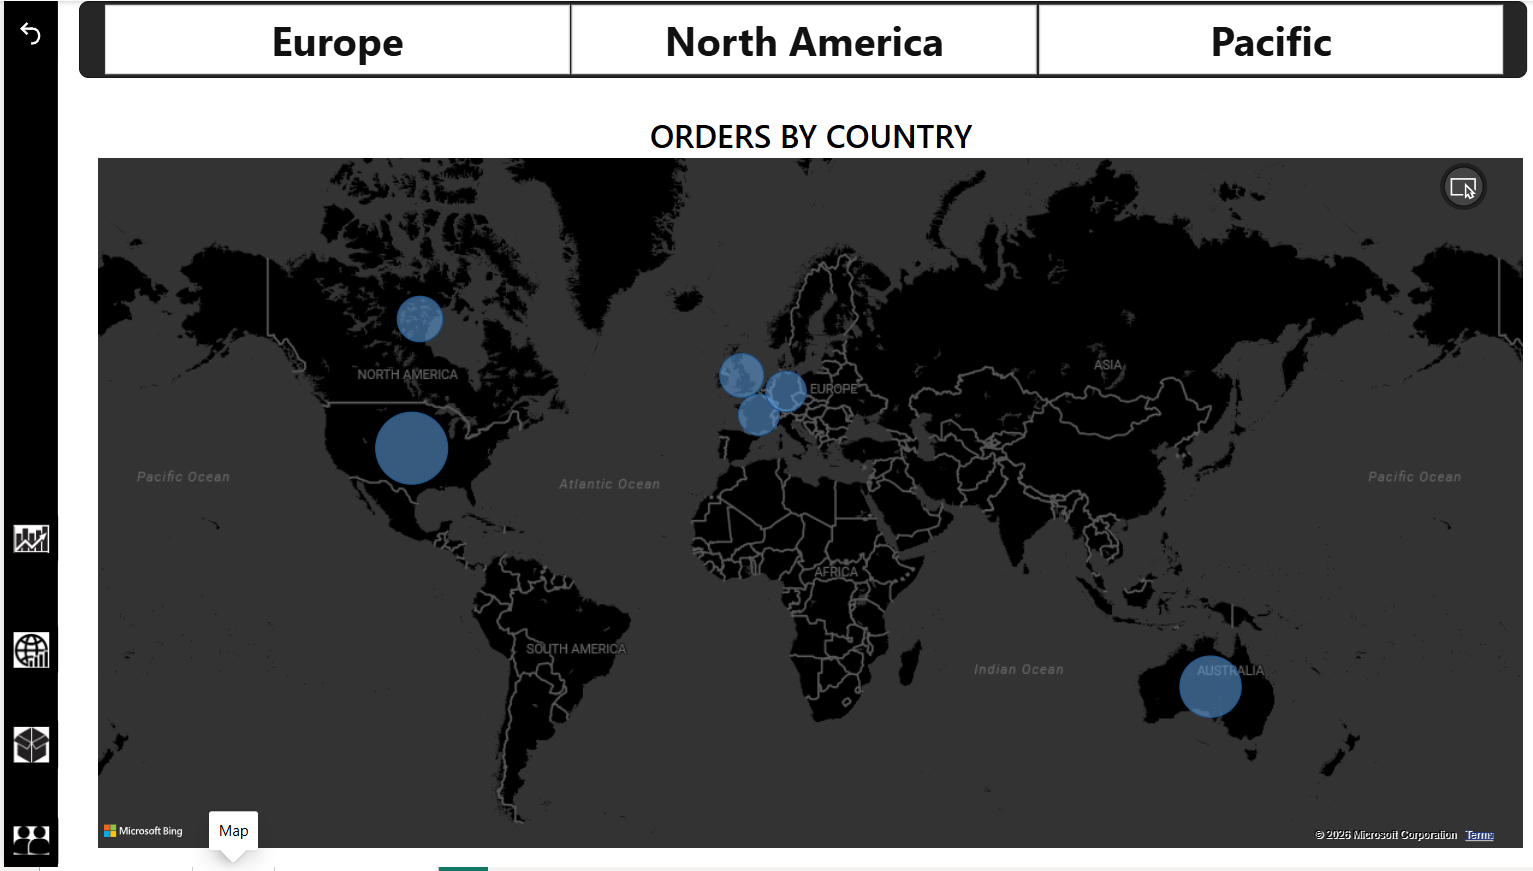

What the dashboard file says about the page in this screenshot:
{"tool":"powerbi","page":{"name":"Map ","canvas":[1280,720],"ordinal":1},"visuals":[{"type":"map","title":"ORDERS BY COUNTRY","fields":{"Category":["Territory Lookup.Country"],"Size":["Table Measure.Total Orders"]},"box":[62.4,78.7,1217.4,641.3],"z":0},{"type":"actionButton","box":[0,425.1,45.2,43.6],"z":0,"group":"g1"},{"type":"slicer","fields":{"Values":["Territory Lookup.Continent"]},"box":[62.4,0,1204,63.8],"z":1000},{"type":"actionButton","box":[0,517.1,45.2,43.6],"z":1000,"group":"g1"},{"type":"shape","title":"Left side bar","box":[0,0,45,720],"z":2000},{"type":"actionButton","box":[0,677,45.4,43.3],"z":2000,"group":"g1"},{"type":"actionButton","box":[0,0,44.5,53.4],"z":3000},{"type":"actionButton","box":[0,595,45.2,45.2],"z":3000,"group":"g1"},{"type":"group","id":"g1","title":"Navigation button","box":[0,425.1,45.7,295.2],"z":4001}]}

Visuals, with their boxes on the page's 1280x720 design canvas (x1, y1, x2, y2). These are canvas units, not pixel positions in the 1533x871 screenshot, which may show the page scaled, cropped or inside an application window:
"ORDERS BY COUNTRY" map: x1=62, y1=79, x2=1280, y2=720
actionButton: x1=0, y1=425, x2=45, y2=469
slicer - Territory Lookup.Continent: x1=62, y1=0, x2=1266, y2=64
actionButton: x1=0, y1=517, x2=45, y2=561
"Left side bar" shape: x1=0, y1=0, x2=45, y2=720
actionButton: x1=0, y1=677, x2=45, y2=720
actionButton: x1=0, y1=0, x2=44, y2=53
actionButton: x1=0, y1=595, x2=45, y2=640
"Navigation button" group: x1=0, y1=425, x2=46, y2=720
